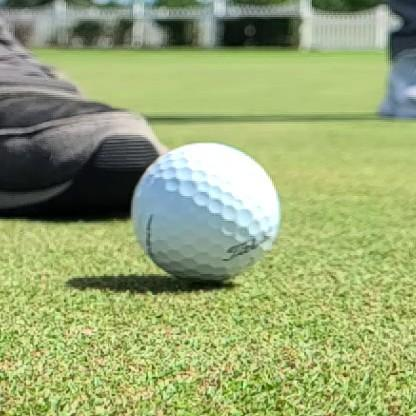golfball: (132, 144, 280, 282)
